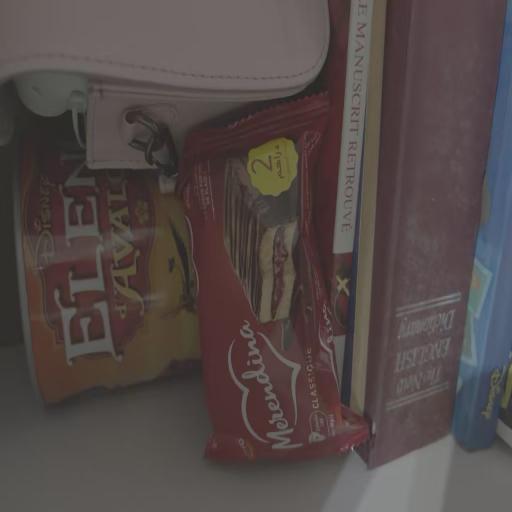merendina: (152, 84, 403, 484)
